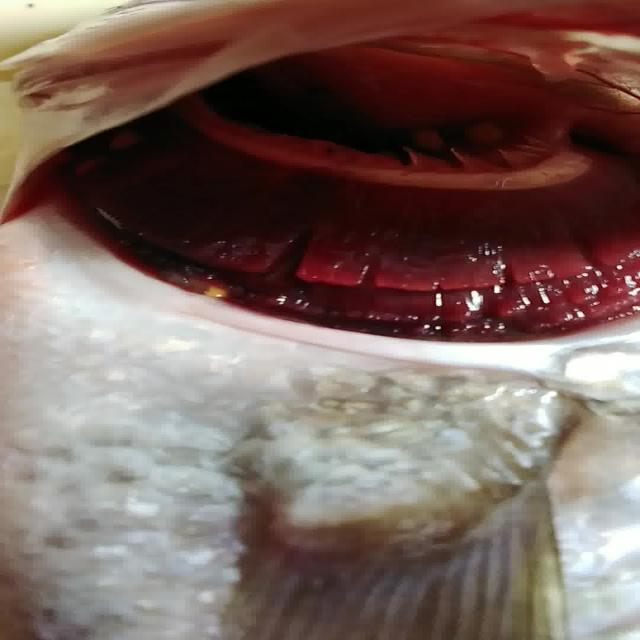Fresh: (53, 55, 640, 389)
